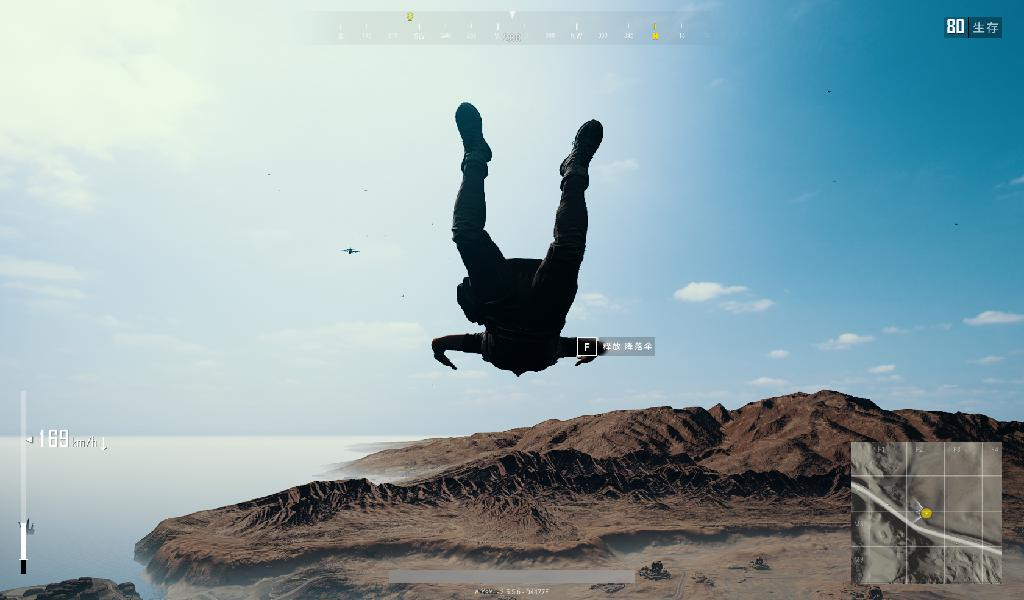Target Person: (431, 101, 611, 383)
